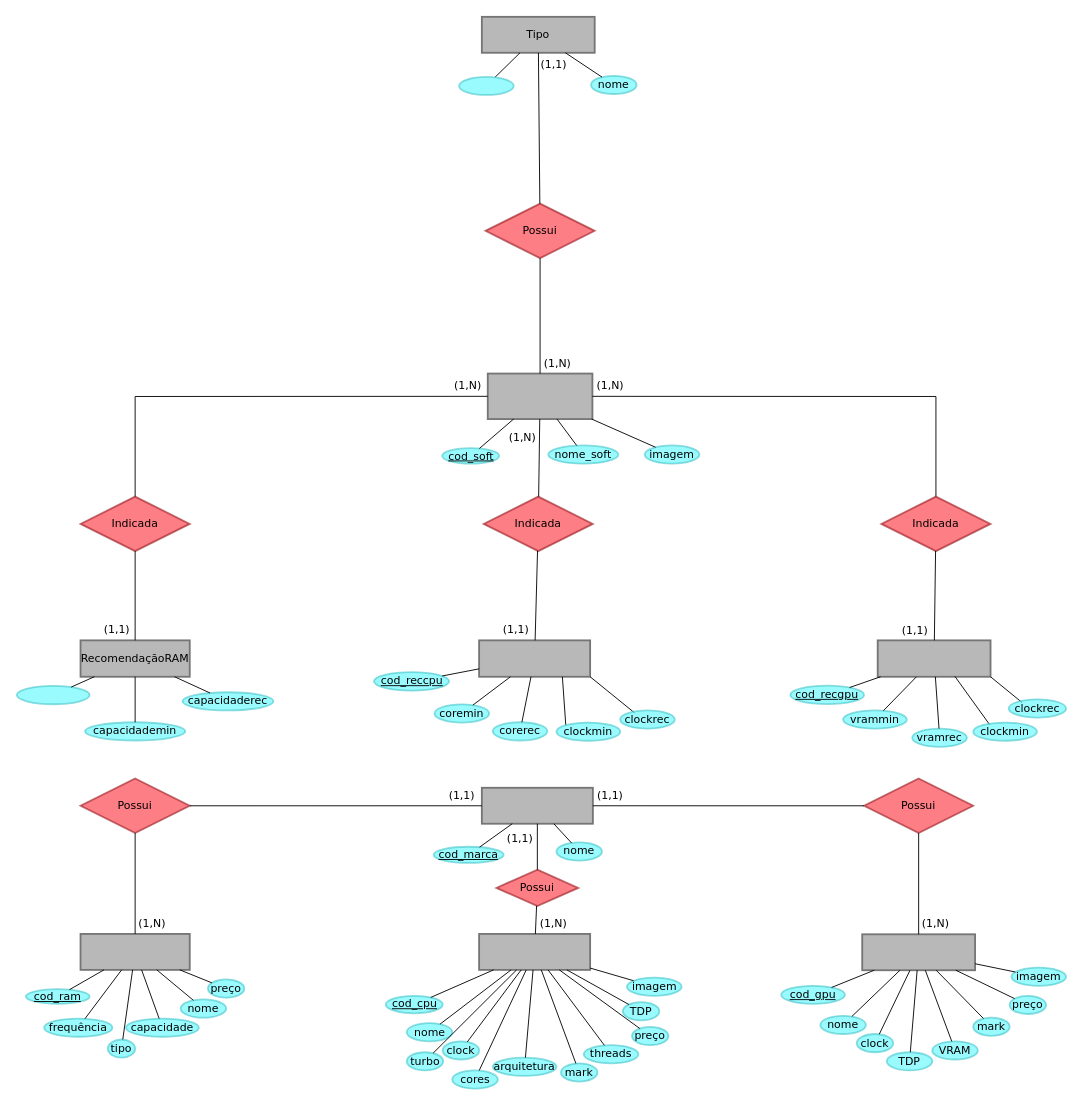
Some shapes in this 1082 by 1105 pixel diagram are drawn without their labels. Each missing label, with the box of its shape:
cod_id: (458, 76, 514, 95)
cod_recram: (15, 685, 90, 705)
GPU: (861, 933, 976, 971)
Marcas: (480, 786, 593, 824)
Processador: (478, 933, 591, 970)
RAM: (79, 933, 190, 970)
RecomendaçãoCPU: (478, 639, 591, 677)
RecomendaçãoGPU: (876, 639, 991, 677)
Software: (486, 372, 593, 420)
